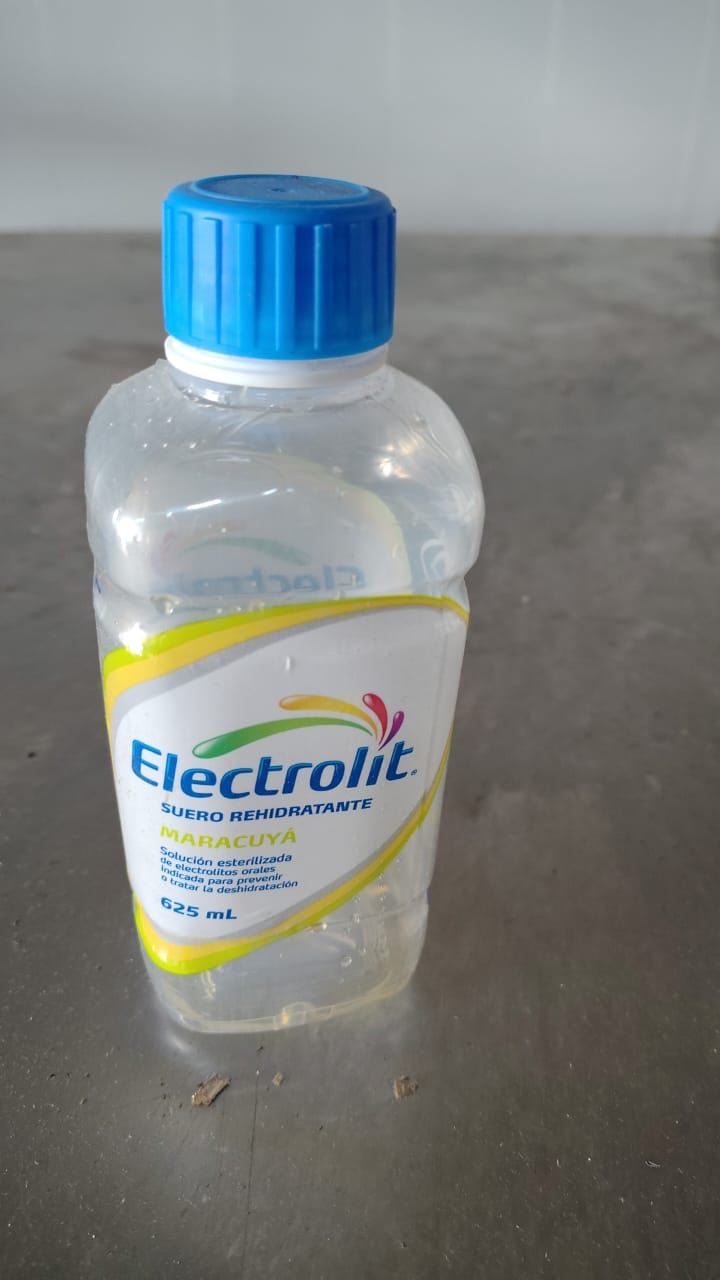Plastico: (82, 175, 484, 1032)
